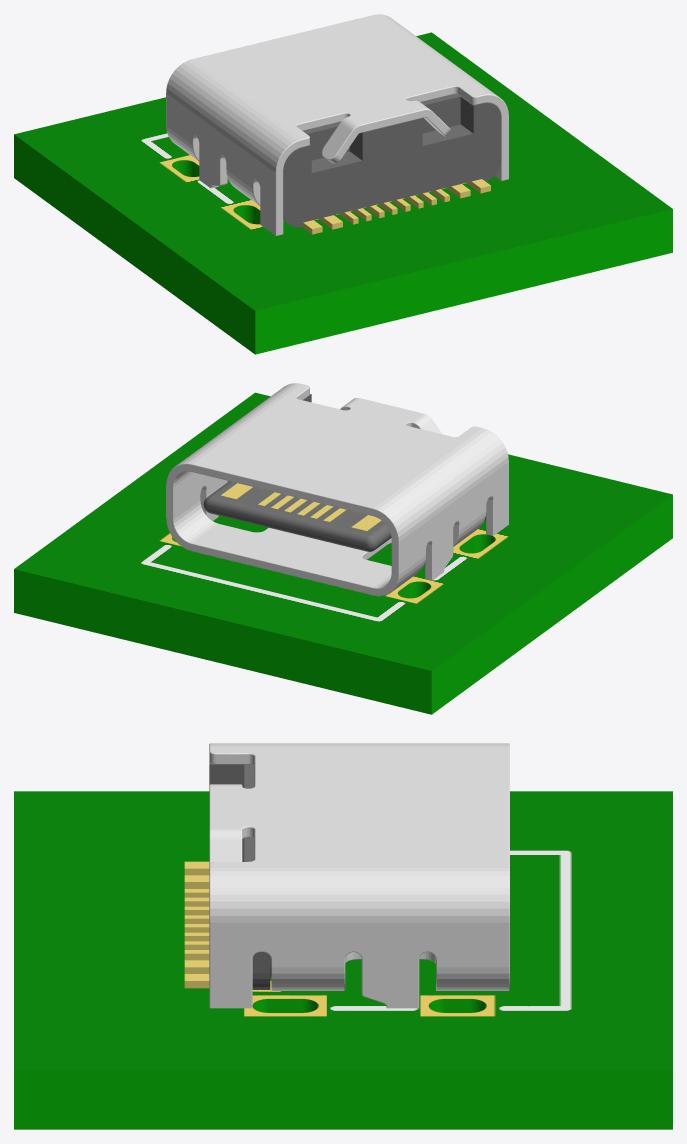
File: C165948-to-ts-side-simple-3d.snap.glb
3 views of the same model, one above another, from view 1: azimuth 30°, elevation 25°; view 2: azimuth 150°, elevation 25°; view 3: azimuth 270°, elevation 25° (orthographic). The views are drawn at different scales.
Parts seen in each view (by area): view 1: Box0, OBJBox1; view 2: Box0, OBJBox1; view 3: Box0, OBJBox1.
Part boxes in pixels (bbox=[...]): Box0: bbox=[14, 32, 672, 354]; OBJBox1: bbox=[166, 14, 508, 235]; Box0: bbox=[14, 392, 672, 714]; OBJBox1: bbox=[166, 383, 508, 596]; Box0: bbox=[14, 791, 672, 1129]; OBJBox1: bbox=[184, 743, 509, 1008].
Bounding box in the file's own units: 16 × 4.9 × 16.
7 materials, 2 textured.
